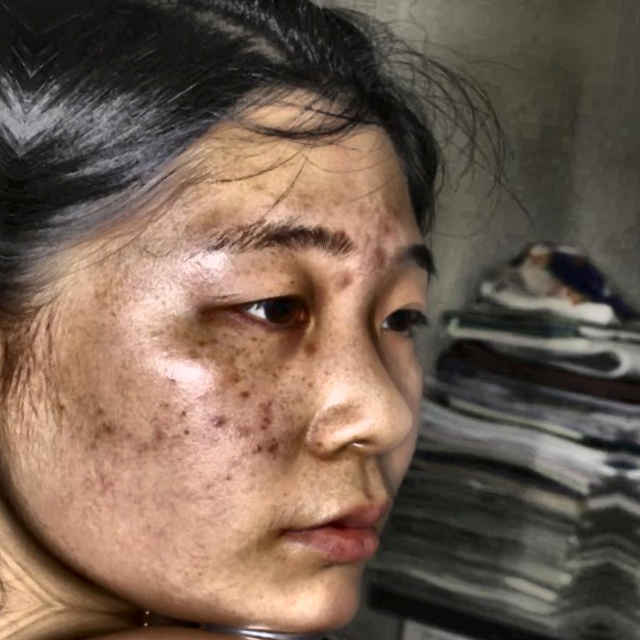comedone: (330, 268, 365, 300), (362, 247, 396, 272), (205, 407, 232, 437)
